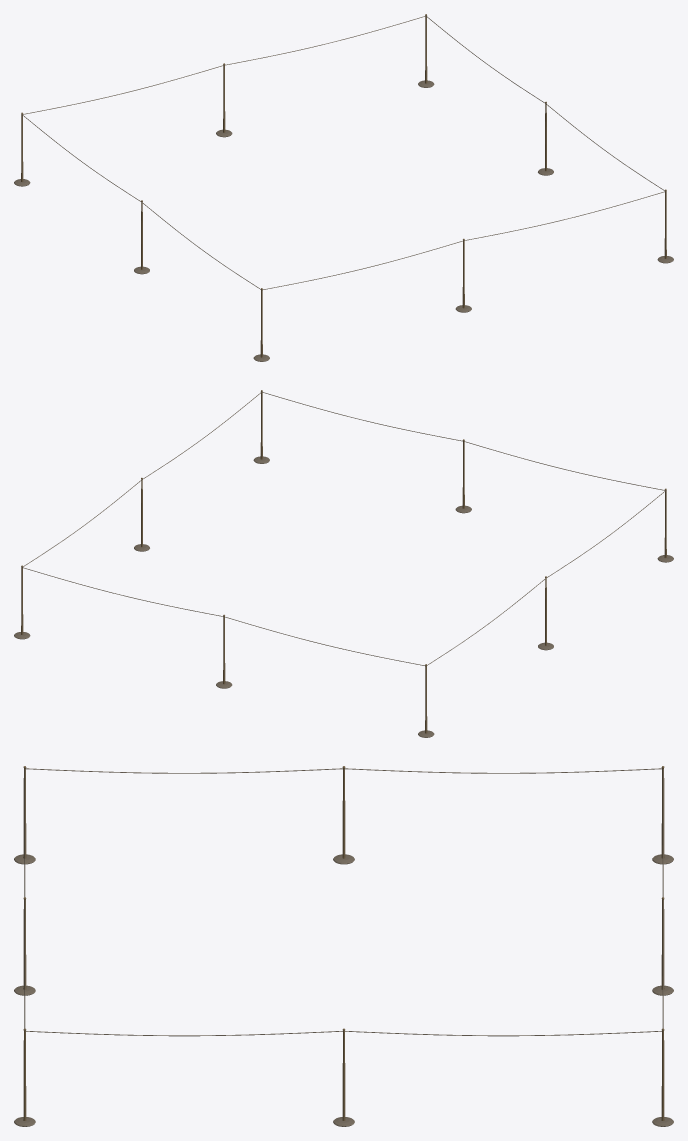
Rendered from cords.glb.
3 renders of one model, top to bottom at view 1: azimuth 30°, elevation 25°; view 2: azimuth 150°, elevation 25°; view 3: azimuth 270°, elevation 25°, orthographic. The views are drawn at different scales.
Visible parts, largest first — view 1: cords; view 2: cords; view 3: cords.
Boxes of the visible parts, left/top/right/bottom form: cords: left=14, top=14, right=673, bottom=361; cords: left=14, top=390, right=673, bottom=737; cords: left=14, top=766, right=673, bottom=1126.
Bounding box in the file's own units: 4.53 × 0.7301 × 4.65.
